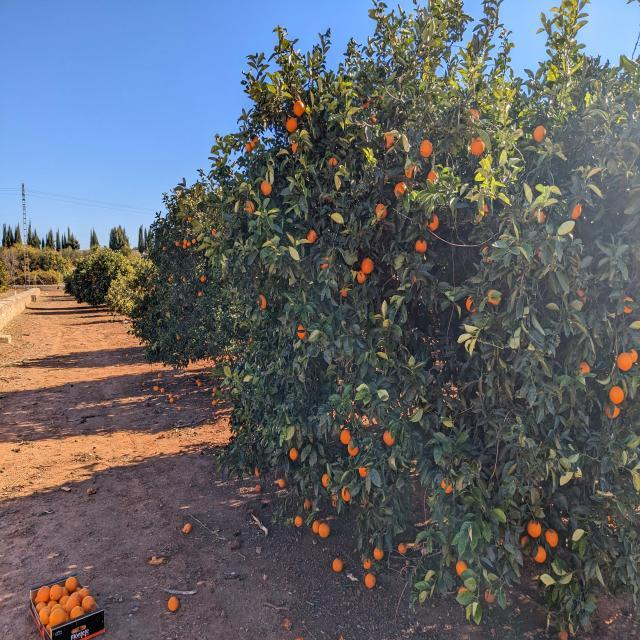Jeruk Sudah Matang: (617, 352, 636, 373), (610, 386, 627, 405), (469, 138, 486, 156), (420, 140, 435, 158), (526, 520, 542, 536), (536, 547, 550, 565), (534, 126, 548, 142), (260, 180, 274, 196), (288, 107, 300, 125), (548, 529, 561, 545), (168, 597, 181, 612), (375, 204, 388, 218), (293, 100, 306, 114), (385, 132, 398, 146), (407, 163, 420, 177), (415, 240, 428, 253), (455, 562, 467, 576), (364, 258, 376, 272), (572, 204, 584, 218), (320, 522, 330, 538), (430, 216, 440, 232), (365, 576, 377, 589), (395, 184, 408, 196), (580, 363, 592, 376), (537, 210, 549, 223), (286, 120, 298, 132), (334, 560, 346, 572), (306, 230, 318, 242), (610, 408, 622, 420), (312, 520, 322, 534), (244, 201, 255, 213), (374, 548, 384, 561), (428, 170, 438, 183), (519, 537, 529, 550), (258, 294, 268, 306), (484, 591, 494, 603), (490, 293, 500, 305), (250, 136, 260, 148), (342, 429, 351, 442), (384, 432, 394, 443), (296, 327, 306, 338), (480, 204, 490, 215), (442, 482, 453, 492), (624, 304, 634, 315), (290, 140, 299, 152), (288, 450, 298, 460), (330, 157, 340, 167), (458, 586, 468, 596), (464, 298, 474, 308), (342, 284, 350, 296), (359, 466, 368, 476), (183, 521, 193, 530), (324, 254, 333, 264), (562, 628, 571, 638), (398, 546, 408, 554), (292, 516, 302, 524), (363, 559, 371, 569), (351, 448, 361, 456), (358, 274, 368, 282), (245, 142, 253, 152), (344, 489, 352, 498), (276, 478, 284, 486), (302, 499, 310, 507), (322, 263, 330, 271), (324, 475, 331, 484), (332, 492, 338, 499), (200, 276, 206, 282), (332, 499, 337, 505), (182, 244, 186, 249), (192, 239, 196, 244), (184, 240, 188, 244), (198, 292, 202, 296), (187, 242, 191, 246), (212, 230, 216, 234), (176, 242, 180, 246), (188, 217, 192, 220), (182, 278, 185, 282), (162, 247, 165, 250)
